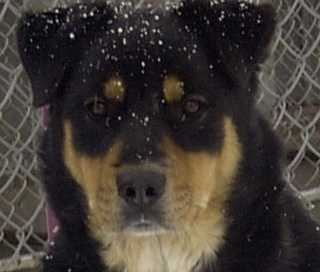dog: (13, 4, 251, 260)
